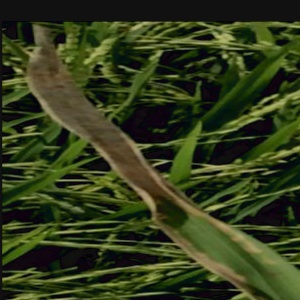Leaf_Blast: (148, 183, 293, 300)
